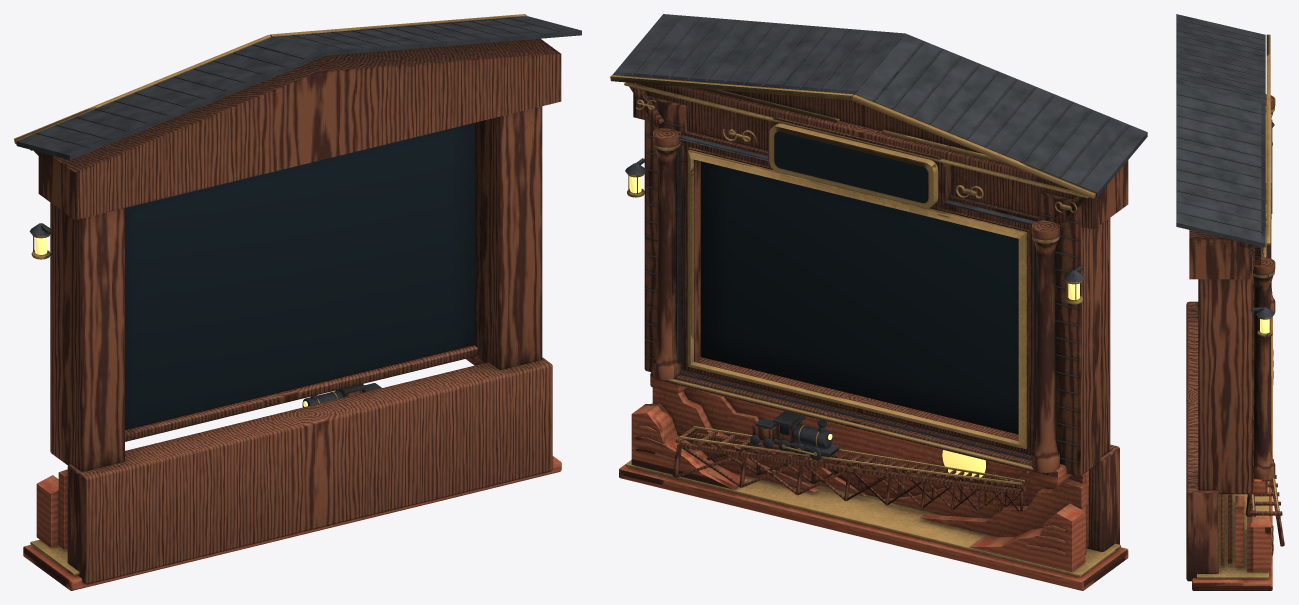
The picture shows the model from 3 angles, left to right: view 1: azimuth 30°, elevation 25°; view 2: azimuth 150°, elevation 25°; view 3: azimuth 270°, elevation 25°; orthographic projection. The views are drawn at different scales.
Visible parts, largest first — view 1: Station_cedar, Dark_enamel, Railway_charcoal, Canyon_sandstone, Railway_brass; view 2: Station_cedar, Dark_enamel, Railway_charcoal, Canyon_sandstone, Railway_brass, glow_sunset; view 3: Station_cedar, Railway_charcoal, Canyon_sandstone, Railway_brass, Dark_enamel.
Boxes of the visible parts, bbox=[...] form: Station_cedar: bbox=[33, 38, 561, 584]; Dark_enamel: bbox=[125, 122, 475, 429]; Railway_charcoal: bbox=[16, 16, 581, 407]; Canyon_sandstone: bbox=[23, 355, 561, 590]; Railway_brass: bbox=[14, 14, 553, 575]; Station_cedar: bbox=[629, 82, 1128, 551]; Dark_enamel: bbox=[700, 131, 1039, 435]; Railway_charcoal: bbox=[612, 14, 1147, 462]; Canyon_sandstone: bbox=[619, 371, 1128, 590]; Railway_brass: bbox=[610, 75, 1120, 576]; glow_sunset: bbox=[630, 176, 1079, 480]; Station_cedar: bbox=[1186, 94, 1284, 581]; Railway_charcoal: bbox=[1176, 14, 1274, 481]; Canyon_sandstone: bbox=[1192, 349, 1273, 590]; Railway_brass: bbox=[1196, 34, 1279, 578]; Dark_enamel: bbox=[1271, 120, 1272, 213].
Size of the model in its own units: 10.1 by 9.2 by 2.22.
6 materials, 5 textured.
